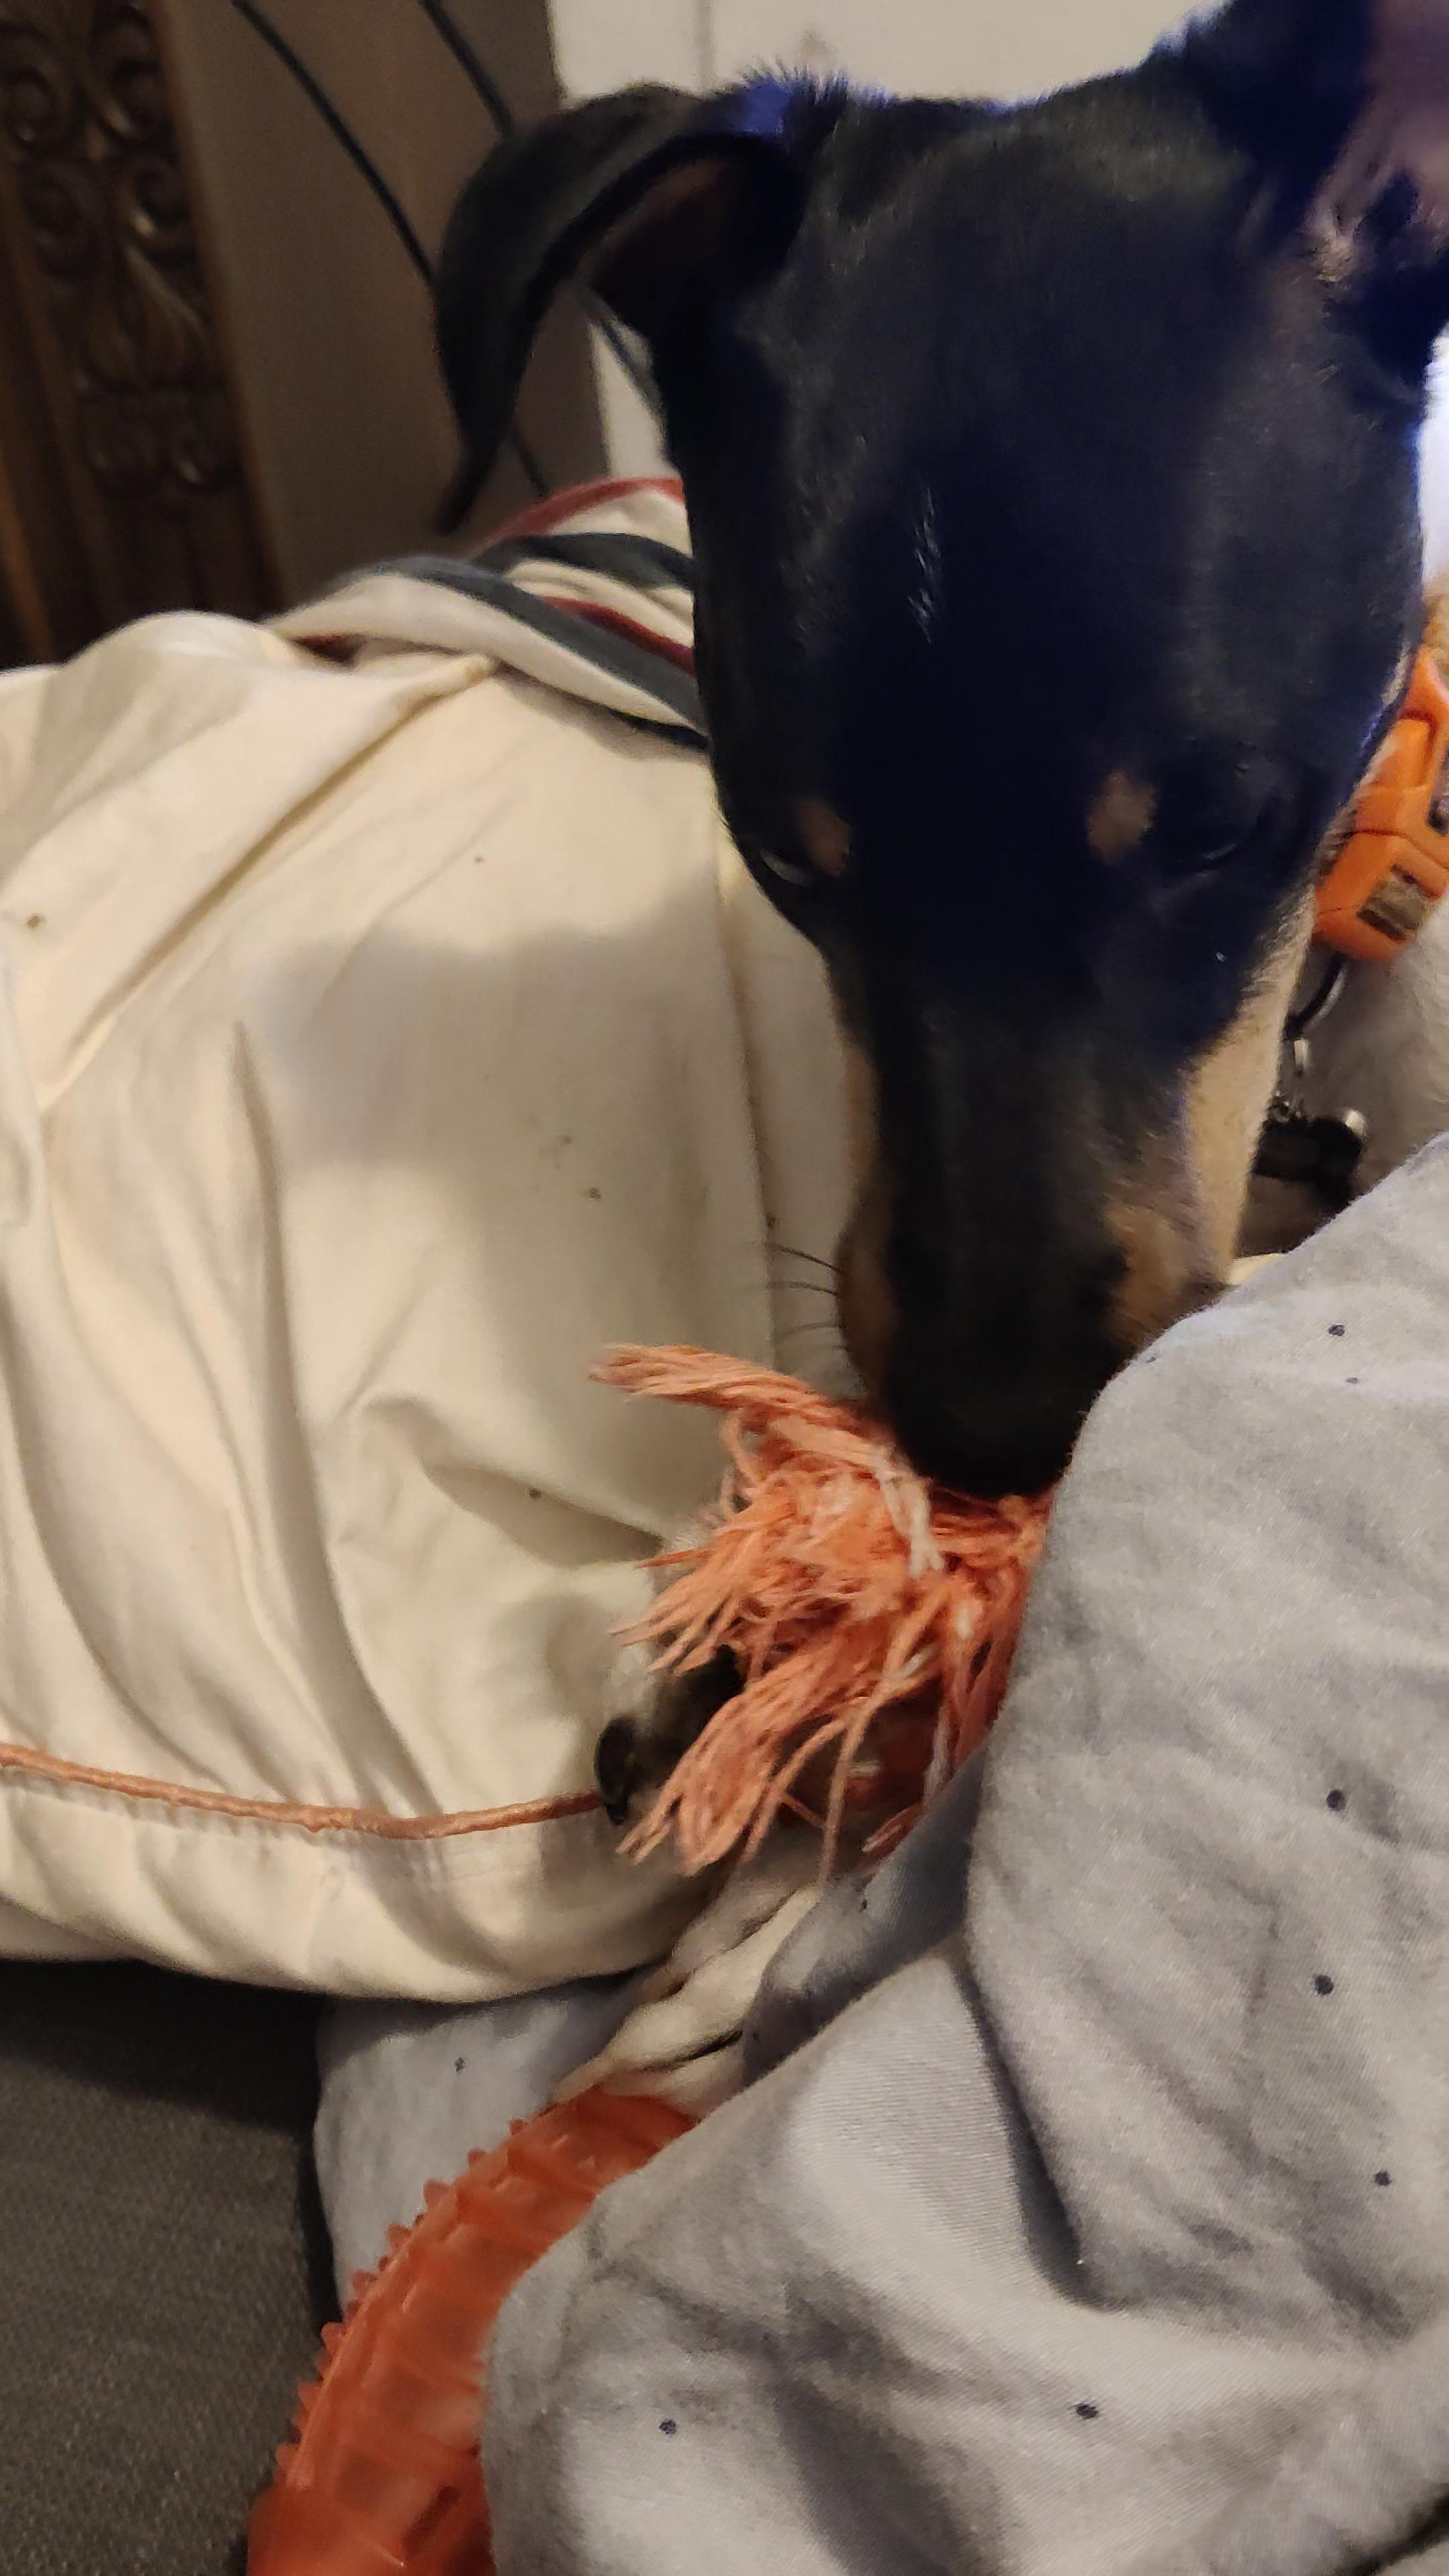Dog: (416, 0, 1449, 2139)
